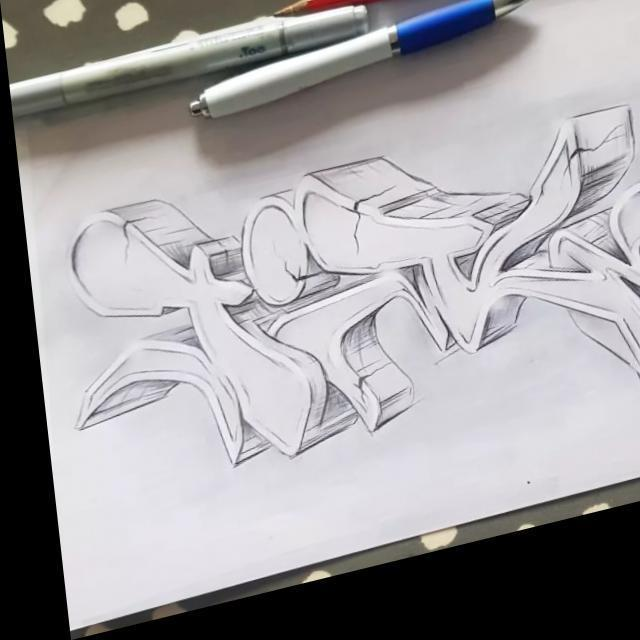-: (30, 80, 640, 584)
